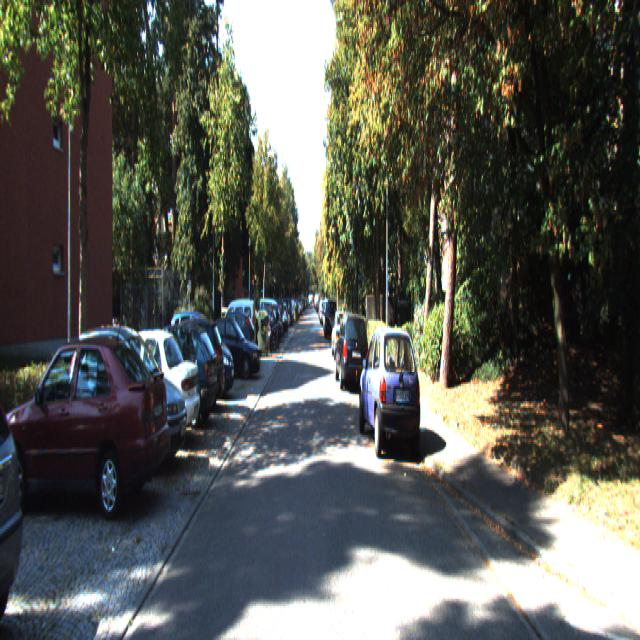Car: (0, 328, 172, 517), (65, 321, 191, 478), (92, 322, 202, 450), (129, 319, 220, 432), (358, 319, 423, 459), (202, 315, 263, 383), (334, 312, 370, 392), (216, 298, 256, 364), (330, 312, 353, 362), (323, 300, 338, 340)
